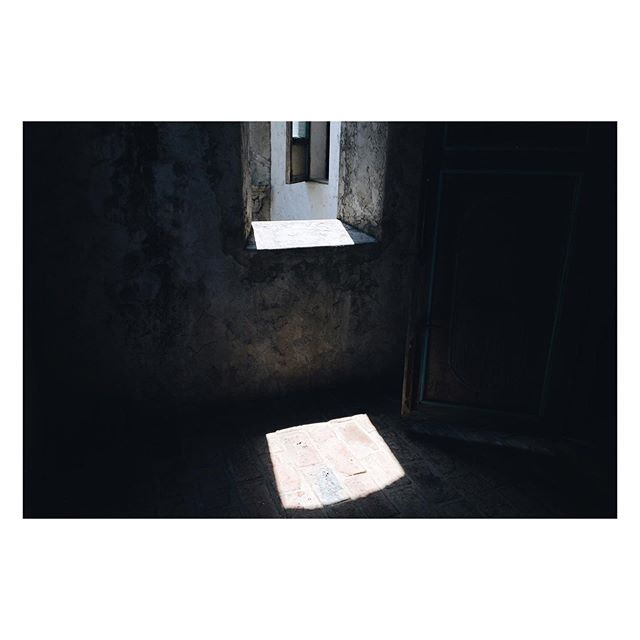window: (244, 122, 383, 234)
